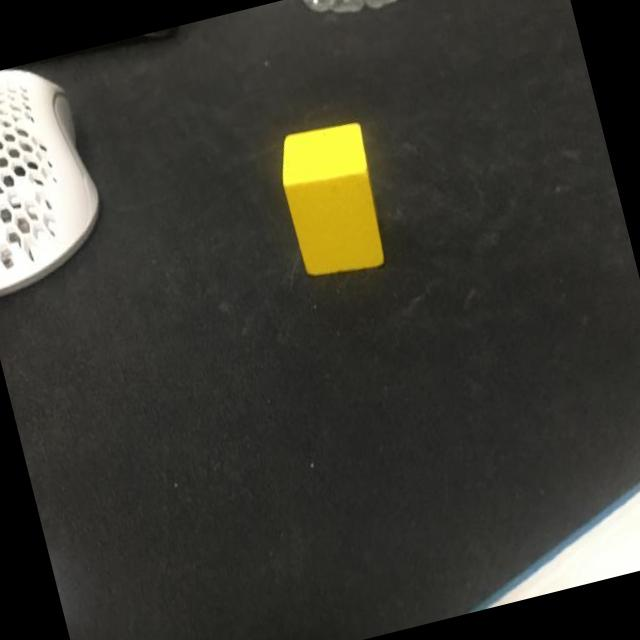yellow: (272, 117, 394, 284)
